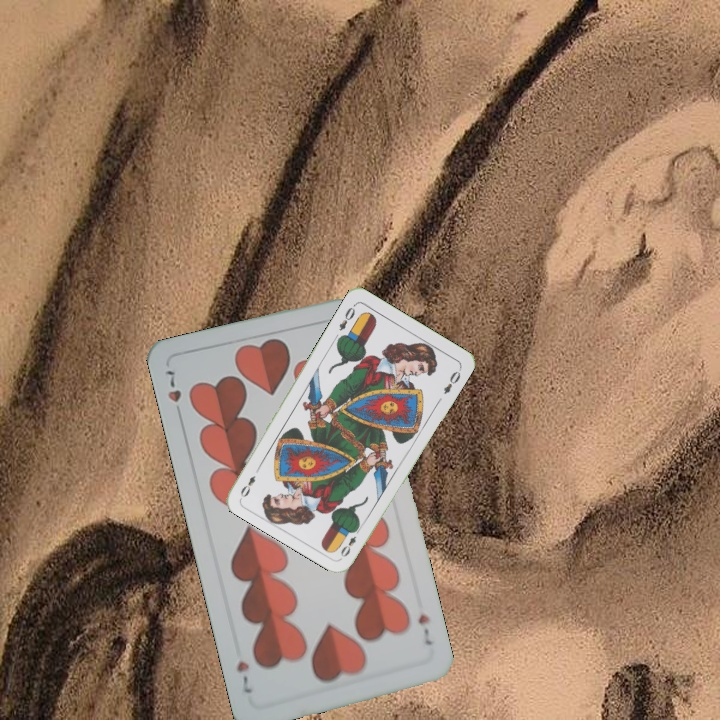EO: (336, 523, 364, 560), (335, 300, 358, 333)
H7: (161, 366, 185, 422), (414, 609, 435, 648)
